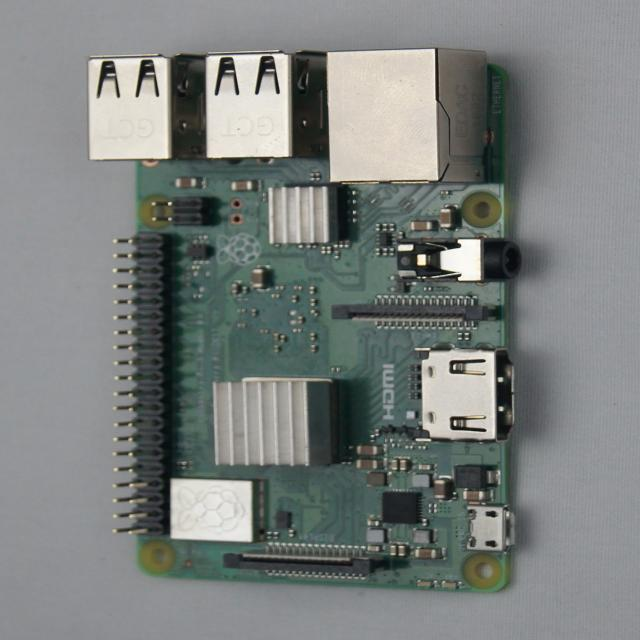Raspberry Pi 3 B-: (89, 49, 521, 592)
